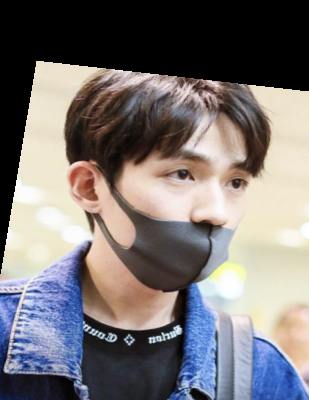mask_weared_incorrect: (60, 58, 290, 303)
